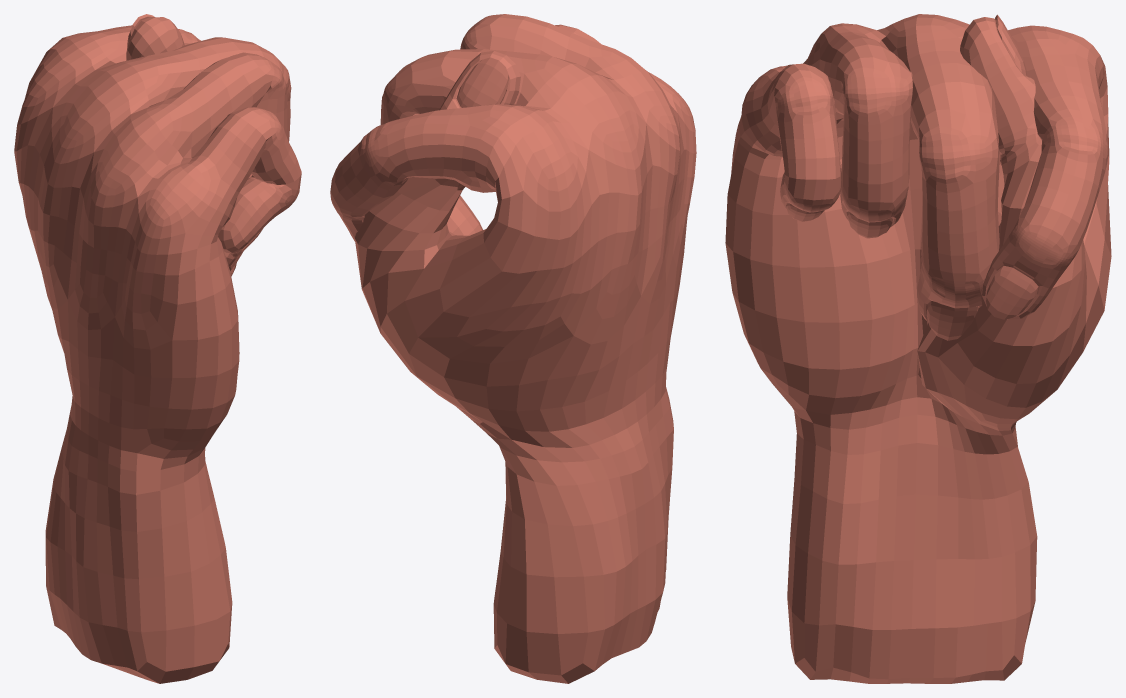
3 renders of one model, left to right at view 1: azimuth 30°, elevation 25°; view 2: azimuth 150°, elevation 25°; view 3: azimuth 270°, elevation 25°, orthographic. The views are drawn at different scales.
Visible parts, largest first — view 1: ZBrushPolyMesh3D; view 2: ZBrushPolyMesh3D; view 3: ZBrushPolyMesh3D.
Part boxes in pixels (x1,y1,x2,y2): ZBrushPolyMesh3D: (14,14,301,683); ZBrushPolyMesh3D: (330,14,696,683); ZBrushPolyMesh3D: (725,14,1111,683).
Bounding box in the file's own units: 1.69 × 3.79 × 1.95.
